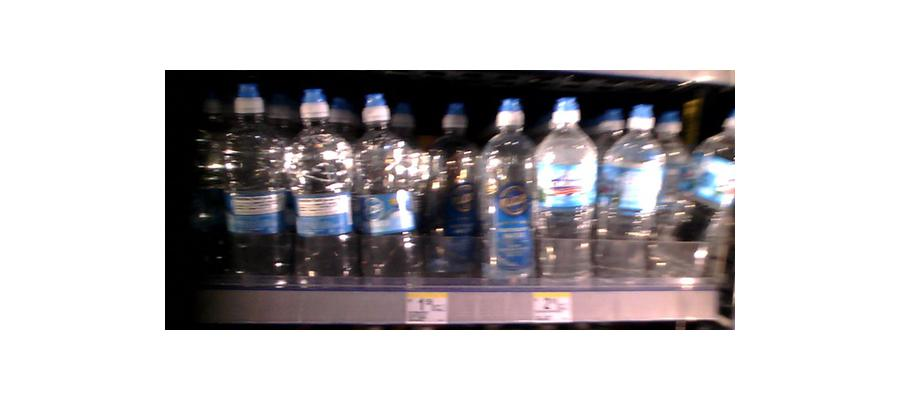bottle: (219, 99, 293, 277), (356, 106, 422, 288), (536, 99, 598, 287), (290, 105, 356, 278), (599, 110, 664, 283), (484, 101, 536, 285), (433, 114, 481, 278)
